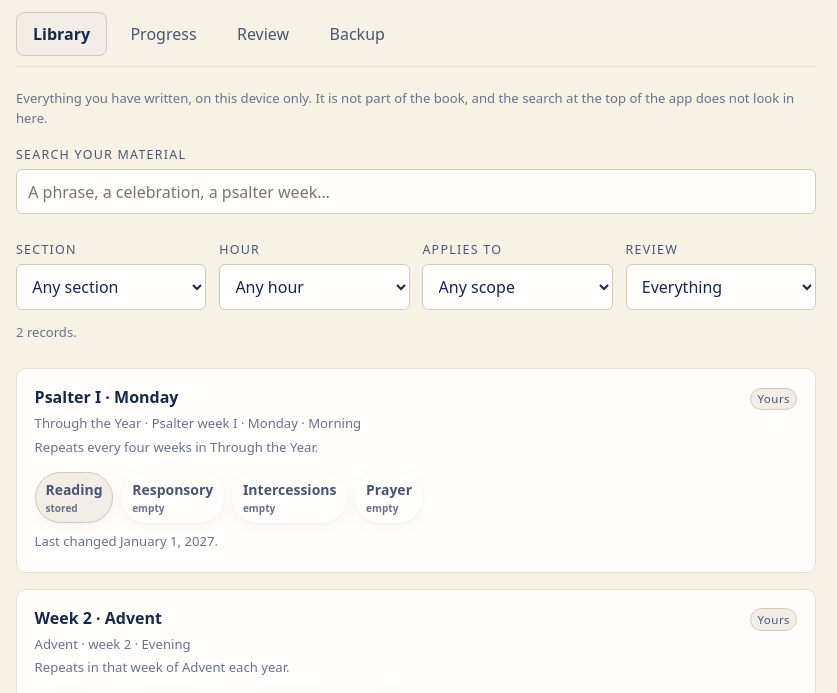
Test: 3 and 4: the Library shows and searches what is stored › filters combine
Select "Evening Prayer" in the dropdown labelled "Hour": (314, 287) [219,264,410,310]
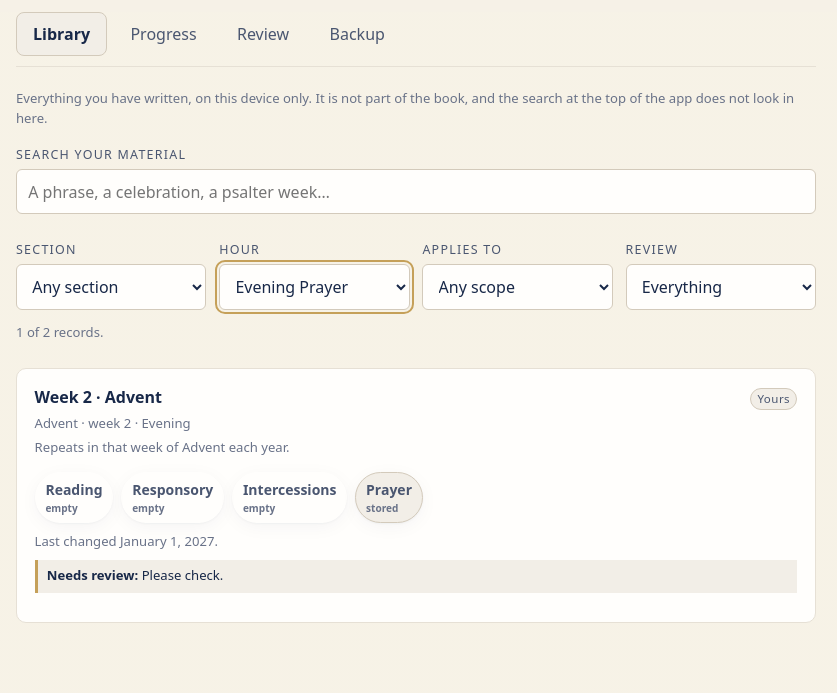
Check: the text "1 of 2 records." is shown, box [16,323,104,341]
Select "Settled" in the dropdown labelled "Review": (721, 287) [626,264,816,310]
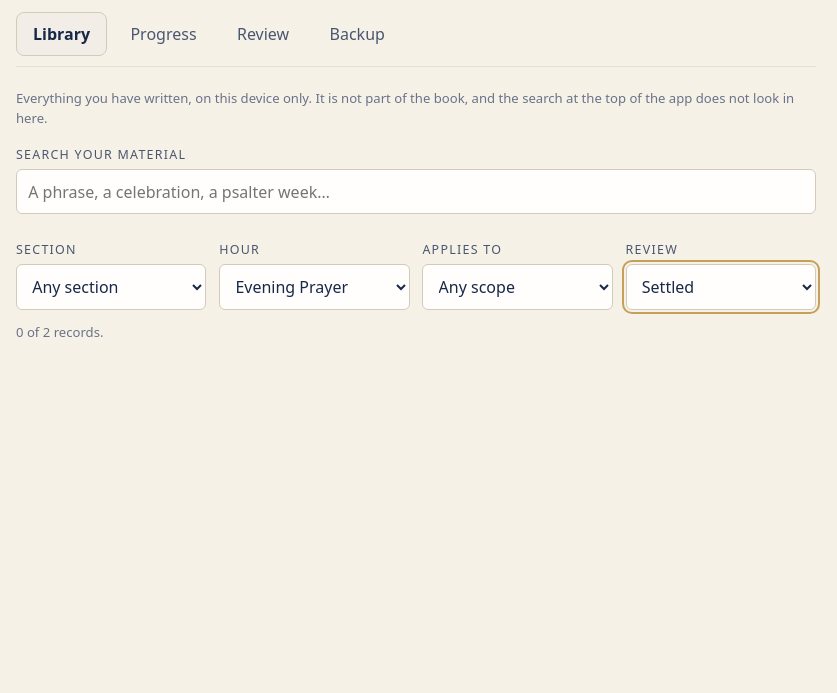
Check: the text "0 of 2 records." is shown, box [16,323,104,341]
